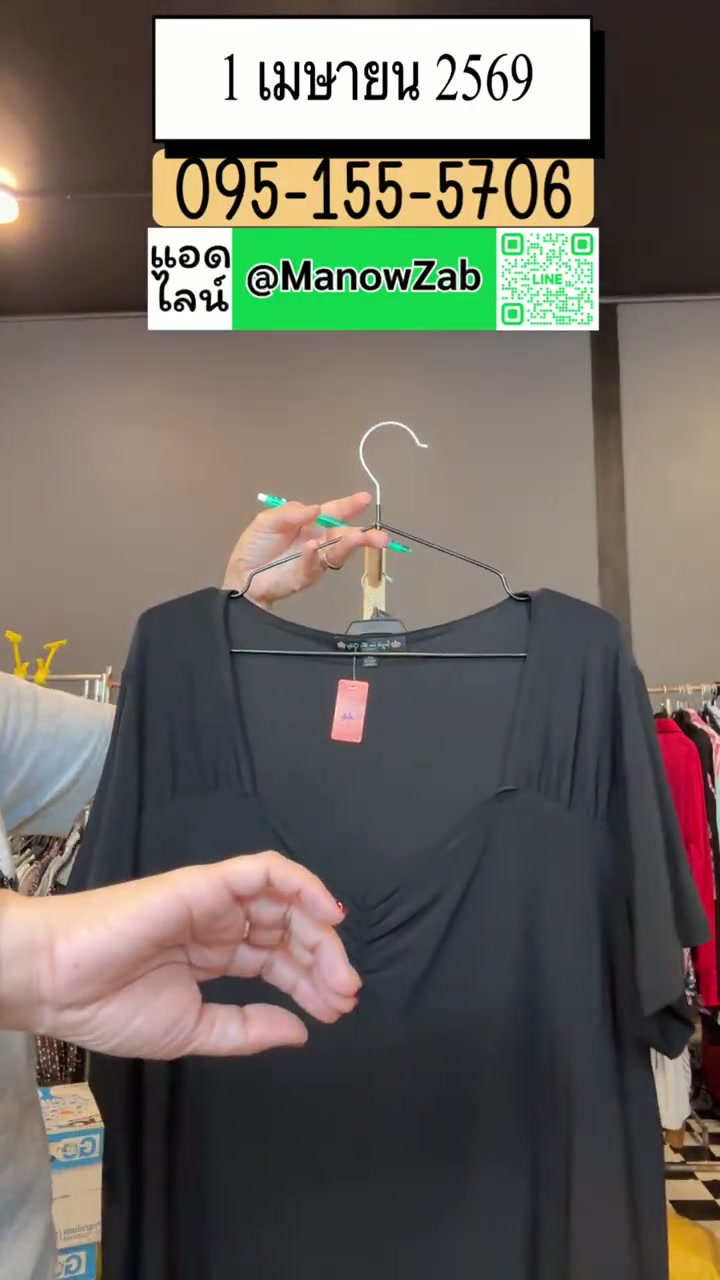display_shirt: (69, 588, 709, 1279)
